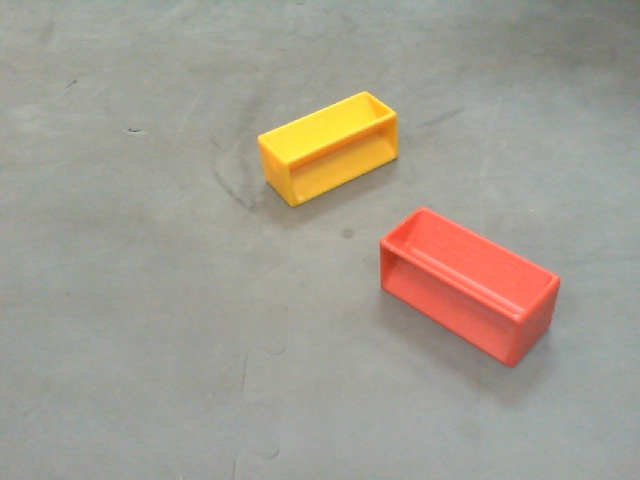RedSample: (375, 206, 562, 363)
YellowSample: (256, 89, 399, 206)
